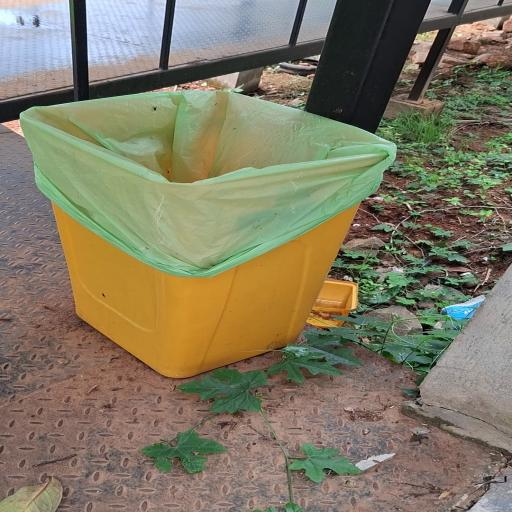Nilkamal-dustbin-detection: (22, 93, 394, 377)
